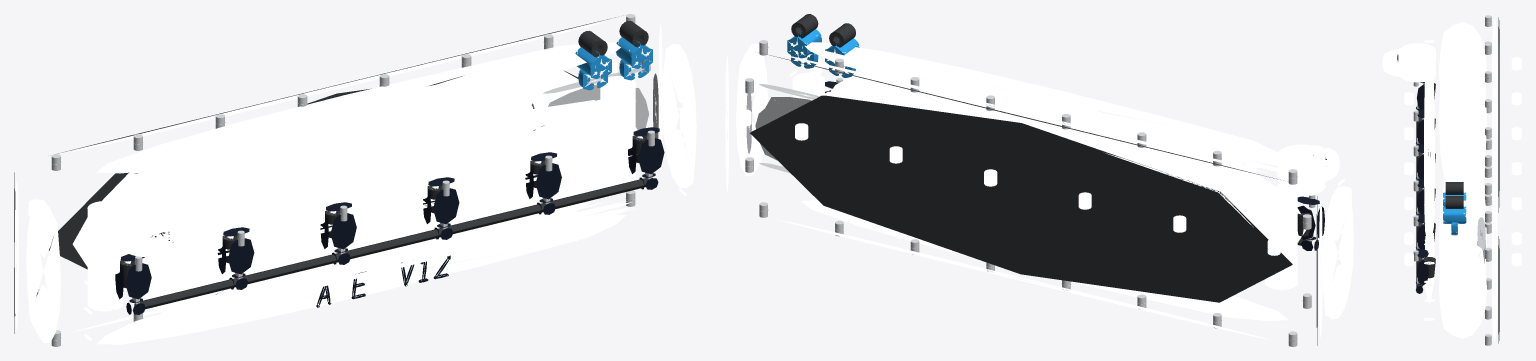
The model's file is valve-cover-left.glb.
3 views of the same model, side by side, from view 1: azimuth 30°, elevation 25°; view 2: azimuth 150°, elevation 25°; view 3: azimuth 270°, elevation 25° (orthographic). The views are drawn at different scales.
Parts seen in each view (by area): view 1: Knurled_Billet_Oil_Filler_Cap, AN10_Breather_Hose_Stub_1, Billet_Oil_Filler_Neck, Coil_Connector_Plug_1, Coil_M6_Fastener_1, GEO_Cover_ChromeFasteners, AN10_Breather_Hex_Fitting_1, Internal_Labyrinth_Oil_Separator_Baffle; view 2: AN10_Breather_Hose_Stub_1, Knurled_Billet_Oil_Filler_Cap, Billet_Oil_Filler_Neck, Coil_M6_Fastener_1, GEO_Cover_ChromeFasteners, Internal_Labyrinth_Oil_Separator_Baffle, AN10_Breather_Hex_Fitting_1, Coil_Connector_Plug_1; view 3: Knurled_Billet_Oil_Filler_Cap, Billet_Oil_Filler_Neck, GEO_Cover_ChromeFasteners, AN10_Breather_Hose_Stub_1, Coil_M6_Fastener_1, Coil_Connector_Plug_1, AN10_Breather_Hex_Fitting_1, Internal_Labyrinth_Oil_Separator_Baffle.
Part boxes in pixels (left/top/right/bottom): Knurled_Billet_Oil_Filler_Cap: left=14, top=21, right=696, bottom=344; AN10_Breather_Hose_Stub_1: left=14, top=17, right=649, bottom=333; Billet_Oil_Filler_Neck: left=87, top=76, right=635, bottom=311; Coil_Connector_Plug_1: left=115, top=127, right=664, bottom=314; Coil_M6_Fastener_1: left=36, top=14, right=654, bottom=346; GEO_Cover_ChromeFasteners: left=28, top=59, right=694, bottom=274; AN10_Breather_Hex_Fitting_1: left=575, top=37, right=652, bottom=90; Internal_Labyrinth_Oil_Separator_Baffle: left=531, top=68, right=658, bottom=138; AN10_Breather_Hose_Stub_1: left=750, top=14, right=1317, bottom=345; Knurled_Billet_Oil_Filler_Cap: left=725, top=42, right=1353, bottom=339; Billet_Oil_Filler_Neck: left=792, top=72, right=1339, bottom=289; Coil_M6_Fastener_1: left=745, top=40, right=1315, bottom=346; GEO_Cover_ChromeFasteners: left=738, top=57, right=1351, bottom=255; Internal_Labyrinth_Oil_Separator_Baffle: left=746, top=84, right=819, bottom=172; AN10_Breather_Hex_Fitting_1: left=787, top=29, right=859, bottom=77; Coil_Connector_Plug_1: left=825, top=81, right=1326, bottom=250; Knurled_Billet_Oil_Filler_Cap: left=1383, top=18, right=1497, bottom=342; Billet_Oil_Filler_Neck: left=1382, top=43, right=1475, bottom=305; GEO_Cover_ChromeFasteners: left=1404, top=57, right=1521, bottom=266; AN10_Breather_Hose_Stub_1: left=1416, top=17, right=1499, bottom=343; Coil_M6_Fastener_1: left=1413, top=15, right=1491, bottom=345; Coil_Connector_Plug_1: left=1397, top=54, right=1428, bottom=293; AN10_Breather_Hex_Fitting_1: left=1443, top=192, right=1466, bottom=235; Internal_Labyrinth_Oil_Separator_Baffle: left=1477, top=217, right=1485, bottom=263.
Bounding box in the file's own units: 0.628 × 0.188 × 0.1685.
